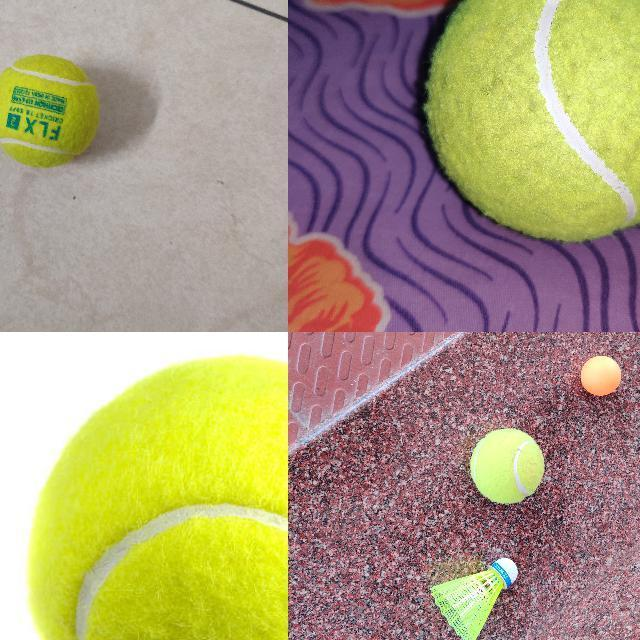tennis-ball: (26, 357, 287, 639), (424, 0, 639, 242), (0, 54, 100, 168), (470, 428, 544, 504)
